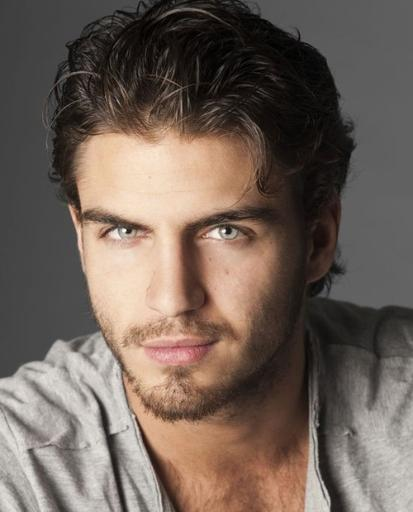left_eye: (197, 222, 259, 247)
left_lip_corner: (208, 332, 226, 353)
right_eye: (100, 221, 151, 247)
right_lip_corner: (137, 339, 158, 360)
